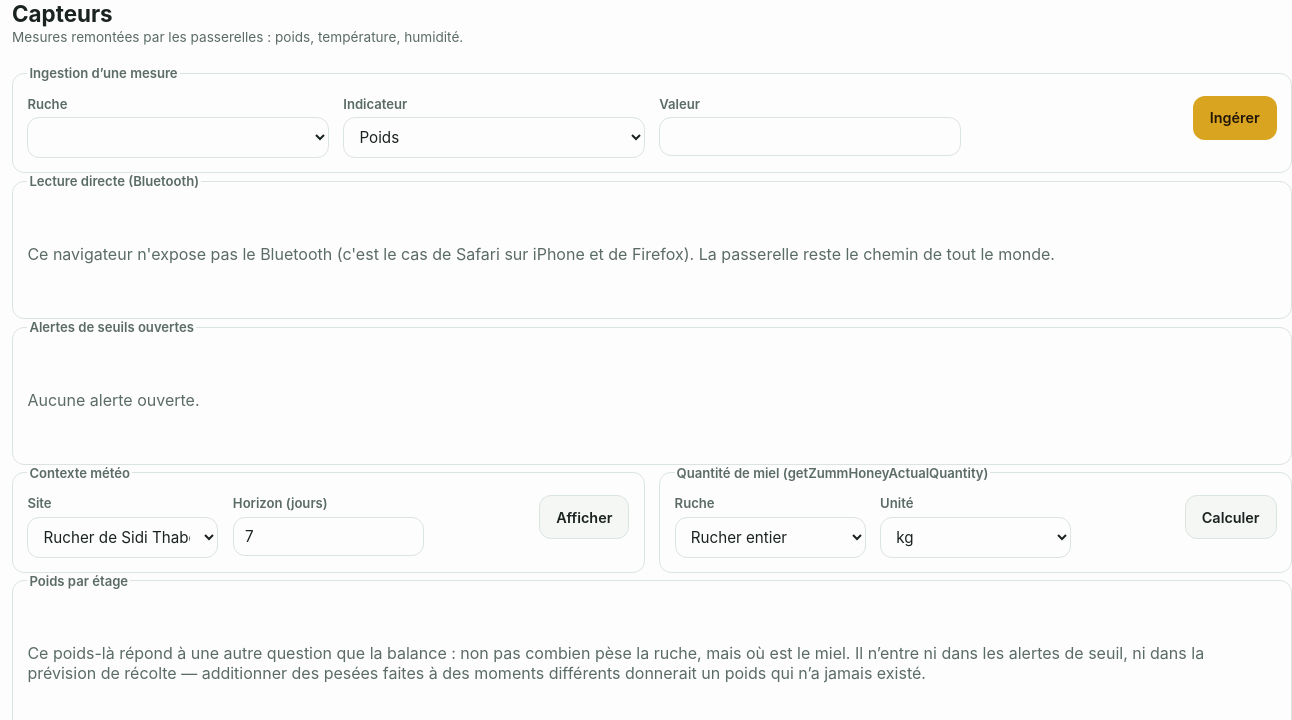
vue Capteurs — prévisions météo › annonce explicitement une réponse sans prévision
Check: the number field labelled "Horizon (jours)" is shown, box x1=233 y1=517 x2=424 y2=556
Click the button "Afficher" at (584, 517), box x1=539 y1=495 x2=630 y2=539
(page scrolled)
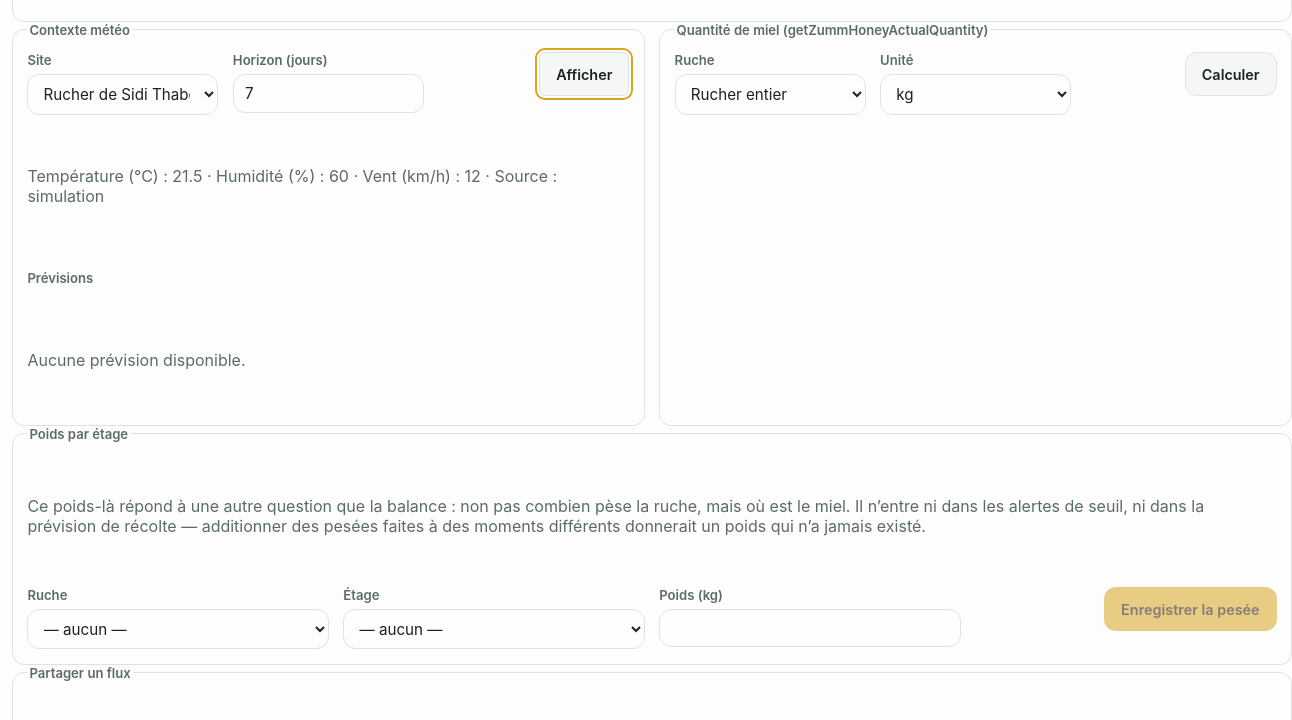
Check: the text "Aucune prévision disponible." is shown, box x1=27 y1=350 x2=246 y2=370
